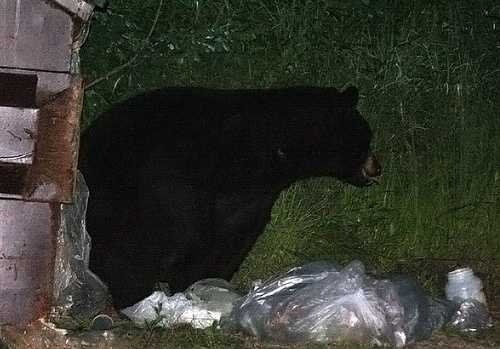bear: (263, 77, 391, 205)
